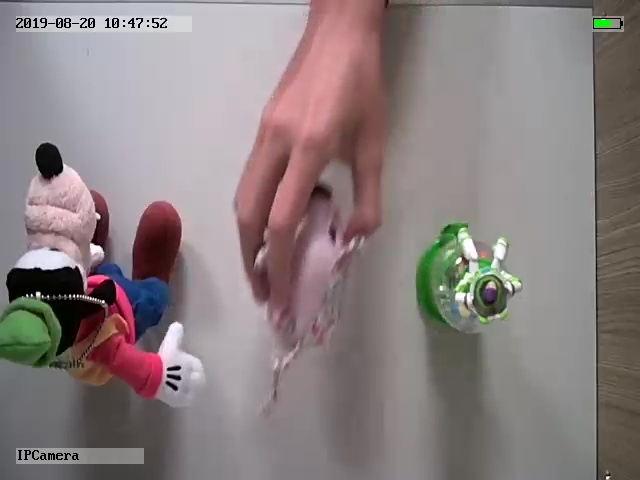buzz: (414, 220, 526, 335)
goofy: (1, 141, 208, 412)
pig: (248, 178, 367, 415)
